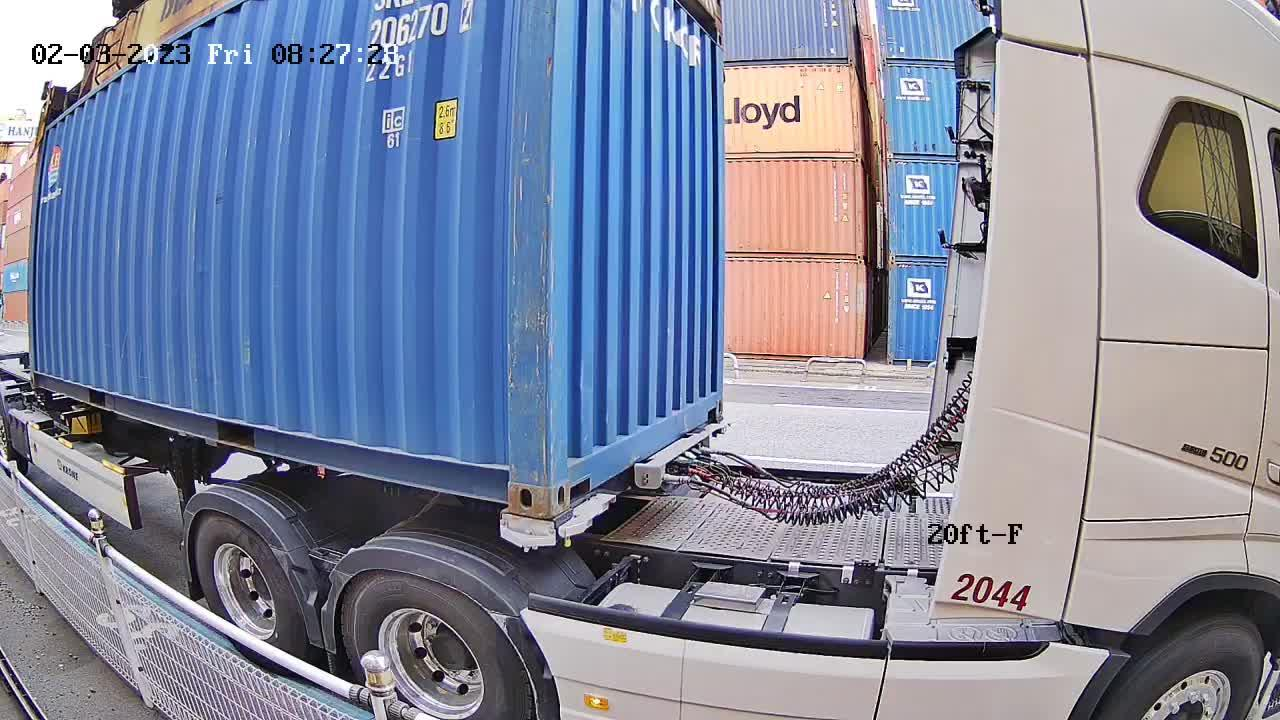Chassis: (501, 422, 726, 551)
Cone: (497, 513, 556, 556)
Hole_L: (549, 424, 597, 519)
Hole_R: (471, 431, 548, 521), (701, 380, 725, 423)
Tire: (343, 572, 534, 715), (197, 515, 303, 670)
